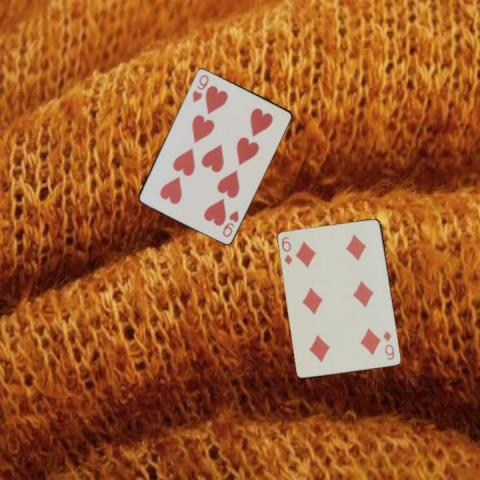6d: (381, 328, 396, 361), (279, 233, 294, 266)
9h: (189, 72, 210, 103), (219, 207, 240, 238)
